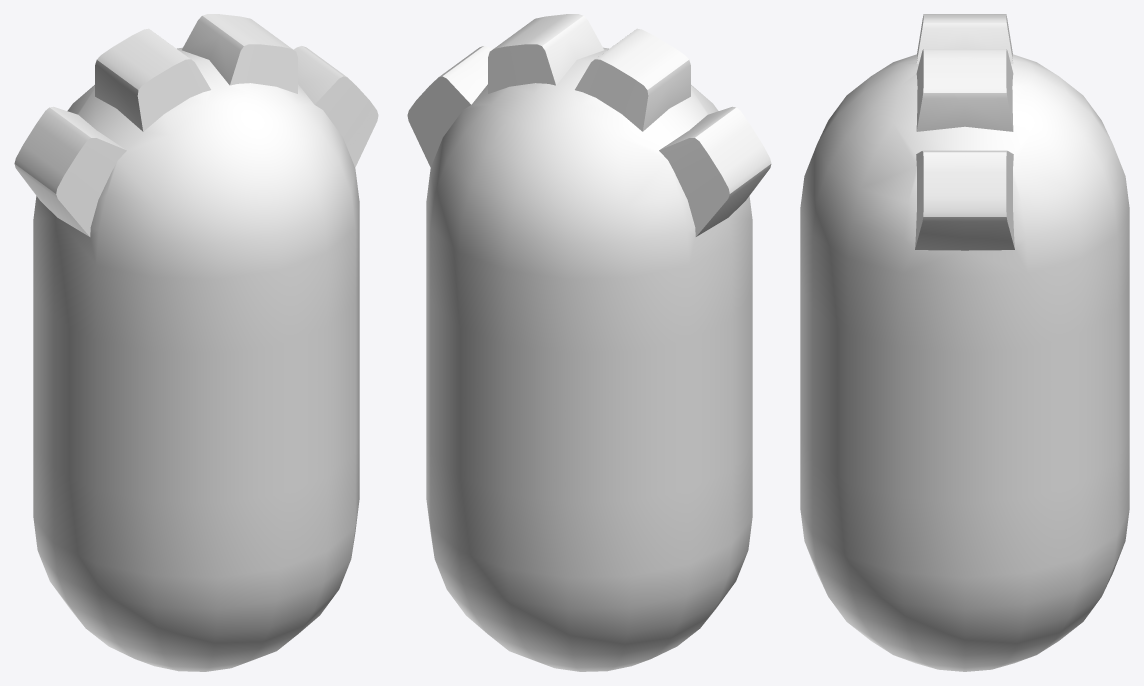
Rendered from Exclusive_Capsule_Godot.fbx.
3 renders of one model, left to right at view 1: azimuth 30°, elevation 25°; view 2: azimuth 150°, elevation 25°; view 3: azimuth 270°, elevation 25°, orthographic.
Parts seen in each view (by area): view 1: Exclusive_Capsule_Godot; view 2: Exclusive_Capsule_Godot; view 3: Exclusive_Capsule_Godot.
Boxes of the visible parts, x1,y1,x2,y2 form: Exclusive_Capsule_Godot: (14,14,378,671); Exclusive_Capsule_Godot: (407,14,771,671); Exclusive_Capsule_Godot: (800,14,1129,671).
Size of the model in its own units: 121 by 222 by 107.
